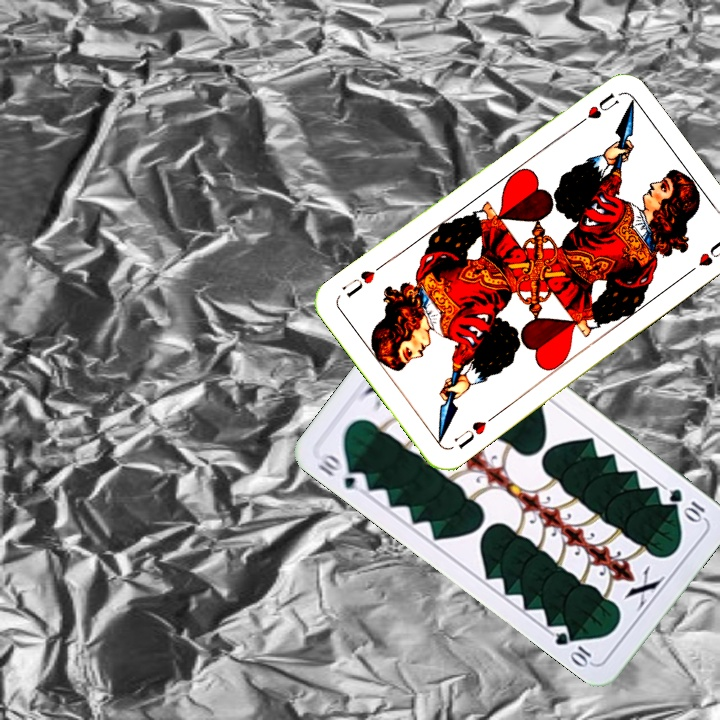G10: (313, 450, 371, 495), (664, 484, 708, 525)
HU: (570, 88, 622, 130), (450, 411, 498, 452)
